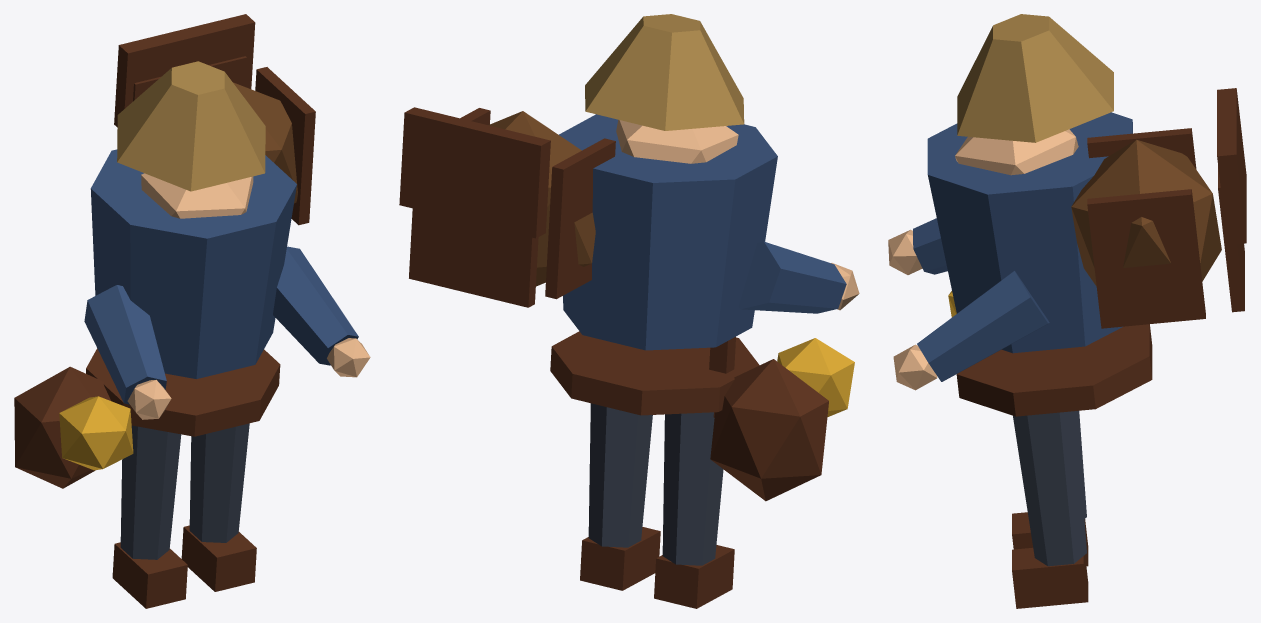
File: npcpose_merchant_walk_09.glb
3 views of the same model, side by side, from view 1: azimuth 30°, elevation 25°; view 2: azimuth 150°, elevation 25°; view 3: azimuth 270°, elevation 25° (orthographic). The views are drawn at different scales.
Visible parts, largest first — view 1: npcpose; view 2: npcpose; view 3: npcpose.
Boxes of the visible parts, x1,y1,x2,y2 form: npcpose: (14,14,370,608); npcpose: (399,14,859,608); npcpose: (888,14,1246,608).
Size of the model in its own units: 1.2 by 1.87 by 1.09.
